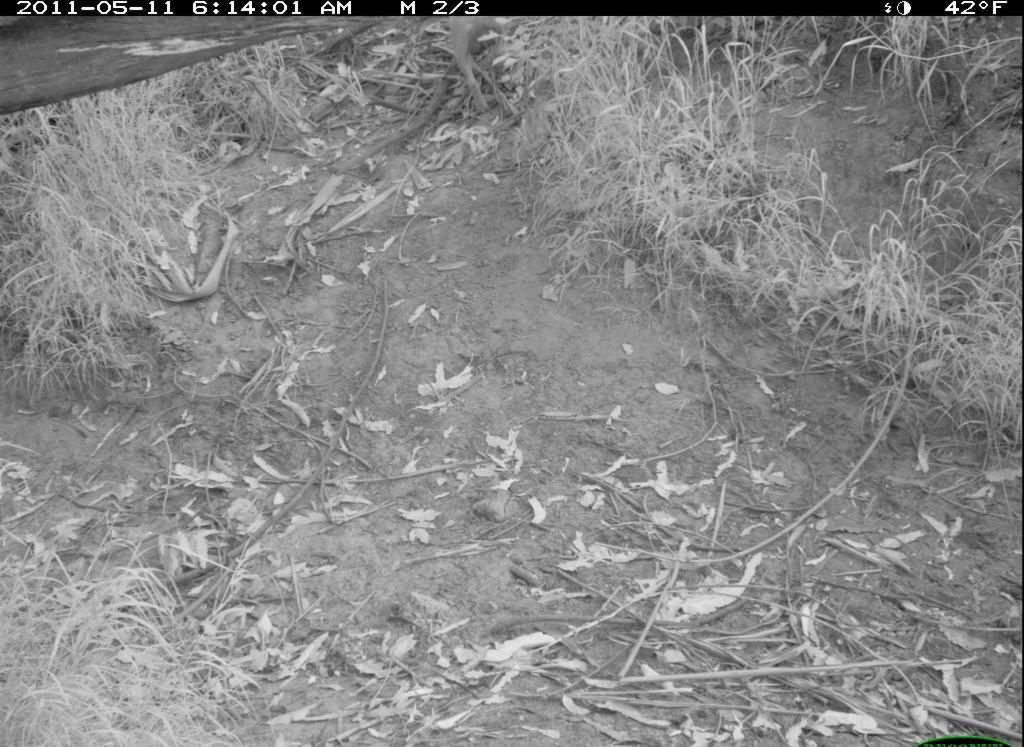dog: (449, 17, 523, 116)
